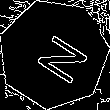N_NW: (21, 23, 86, 84)
